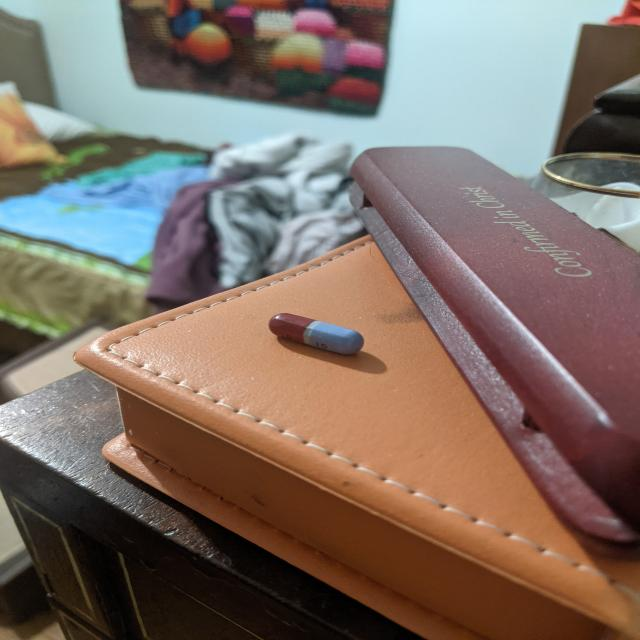non-organic waste: (268, 312, 365, 357)
